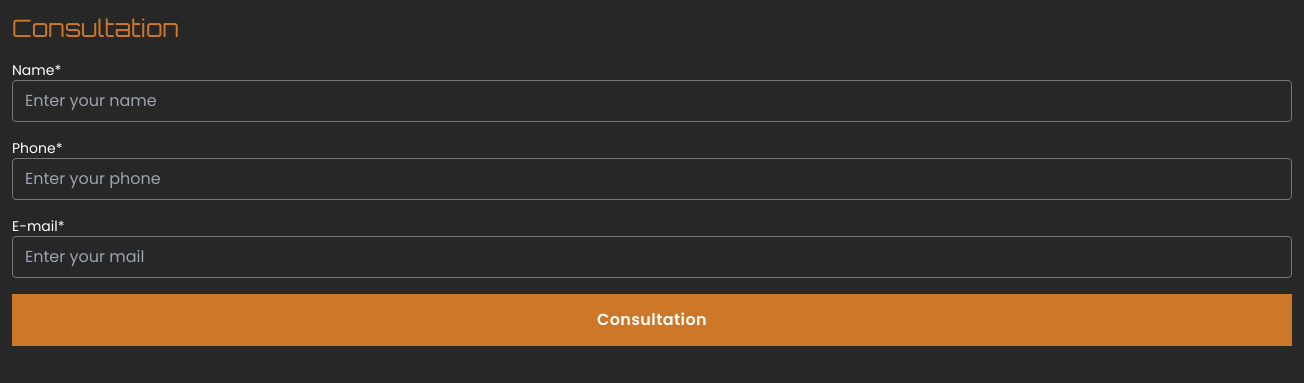
ConsultationForm › shows an email-format error for an invalid email
The width and height of the screenshot is (1304, 383).
Type "Jane Doe" into the field labelled "Name*" at (652, 101), box x1=12 y1=80 x2=1292 y2=122
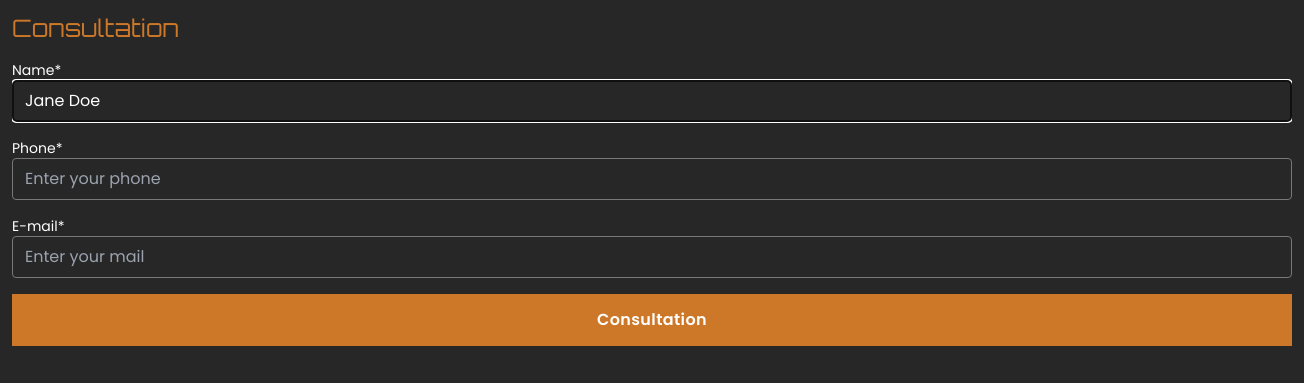
Type "0612345678" into the field labelled "Phone*" at (652, 179), box x1=12 y1=158 x2=1292 y2=200
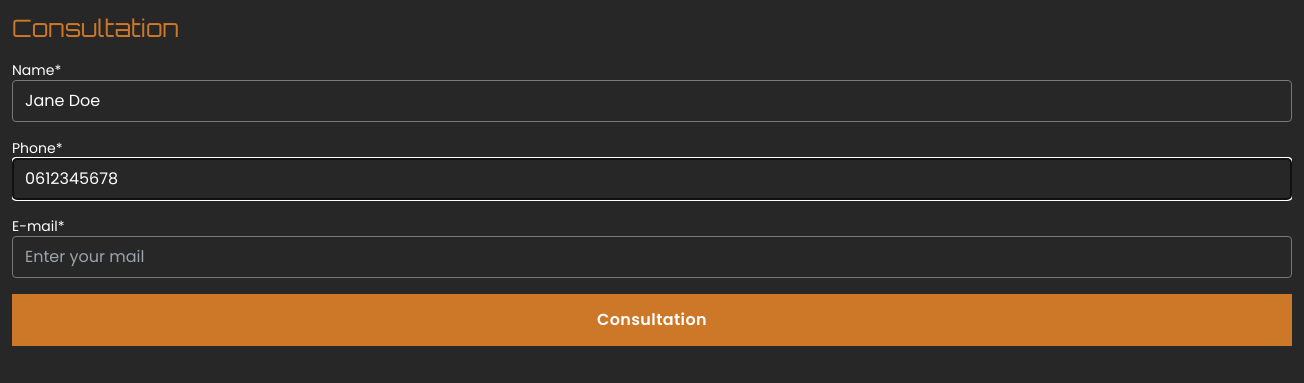
Type "not-an-email" into the field labelled "E-mail*" at (652, 257), box x1=12 y1=236 x2=1292 y2=278
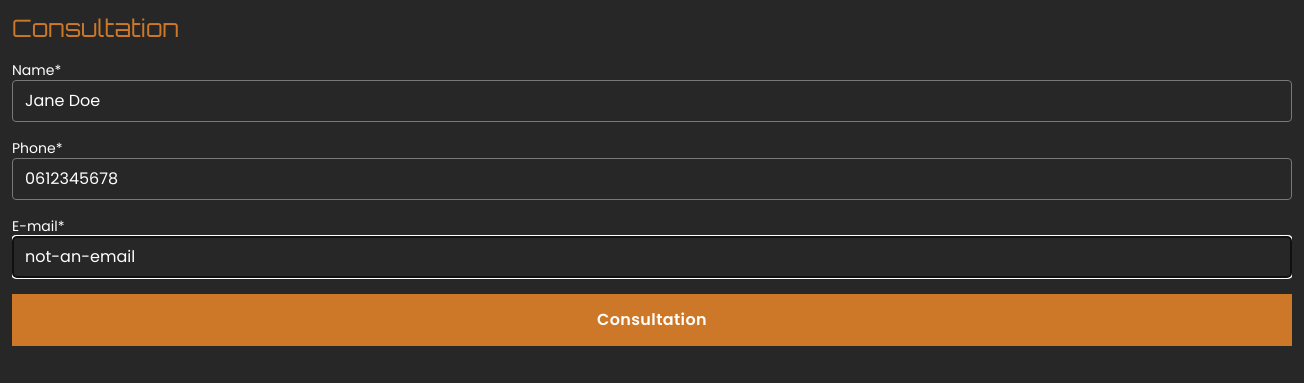
Click the button "Consultation" at (652, 320), box x1=12 y1=294 x2=1292 y2=346
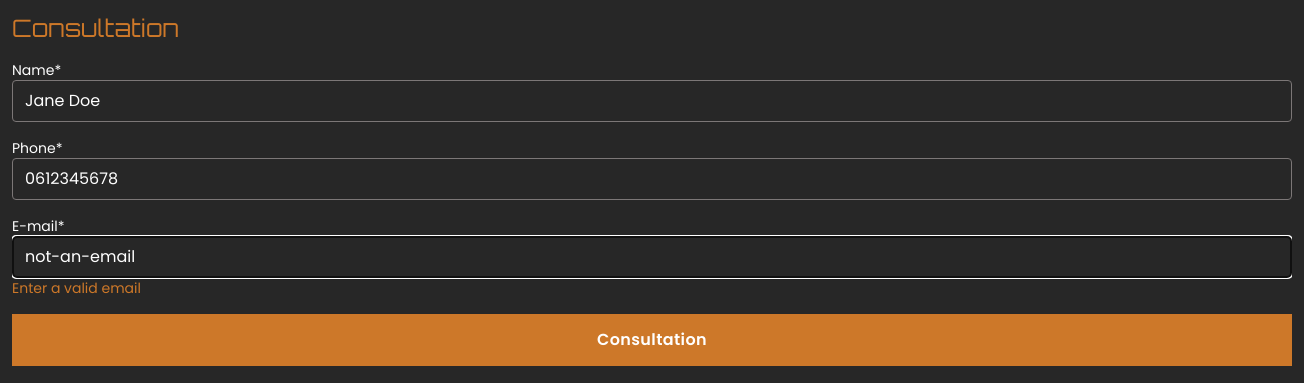
Now the text "Enter a valid email" is shown, box x1=12 y1=278 x2=141 y2=298
